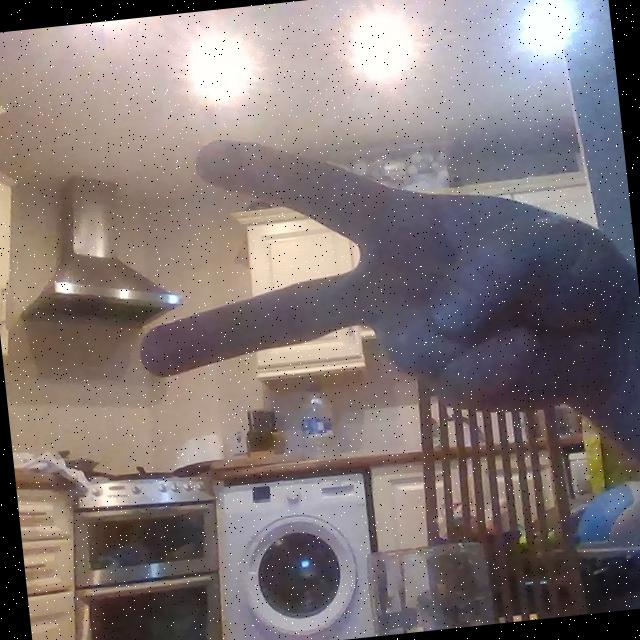scissors: (110, 100, 636, 468)
